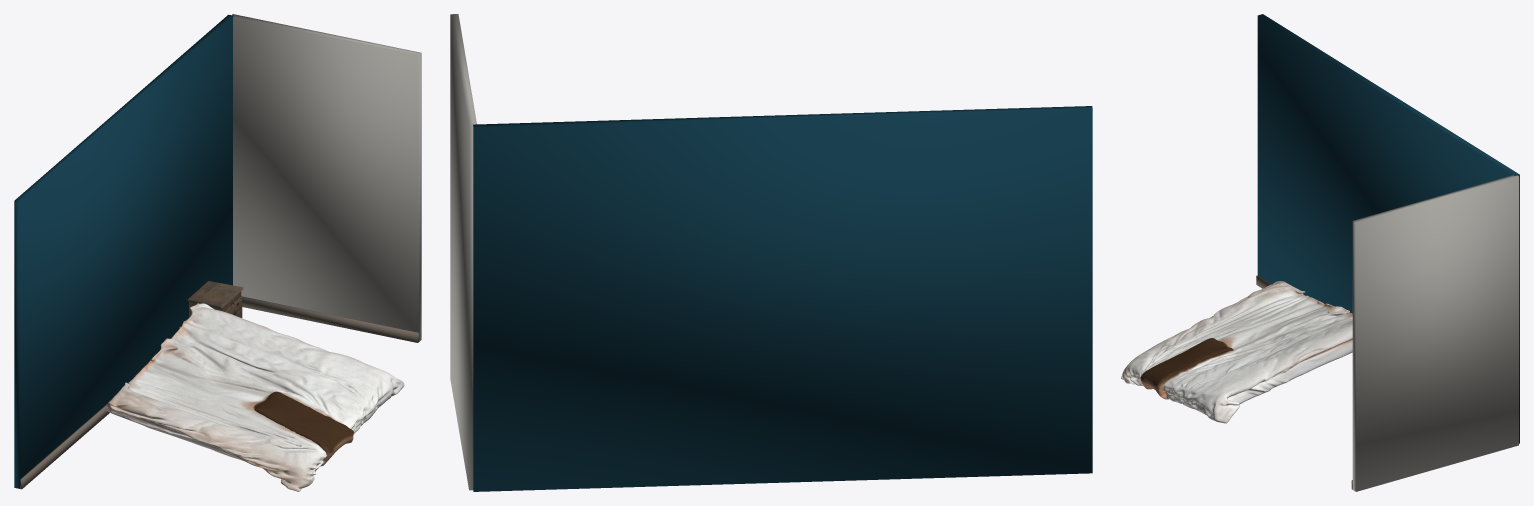
3 views of the same model, side by side, from view 1: azimuth 30°, elevation 25°; view 2: azimuth 150°, elevation 25°; view 3: azimuth 270°, elevation 25° (orthographic). The views are drawn at different scales.
Parts seen in each view (by area): view 1: Wall, Wall.001, bed, Baseboard.001, nightstand_right, Baseboard; view 2: Wall, Wall.001; view 3: Wall.001, Wall, bed.
Boxes of the visible parts, x1=… form: Wall: x1=14, y1=14, x2=233, y2=488; Wall.001: x1=232, y1=14, x2=421, y2=341; bed: x1=106, y1=303, x2=404, y2=491; Baseboard.001: x1=242, y1=296, x2=418, y2=342; nightstand_right: x1=187, y1=281, x2=243, y2=317; Baseboard: x1=20, y1=403, x2=109, y2=489; Wall: x1=473, y1=106, x2=1092, y2=491; Wall.001: x1=450, y1=14, x2=476, y2=490; Wall.001: x1=1352, y1=175, x2=1518, y2=491; Wall: x1=1257, y1=14, x2=1519, y2=443; bed: x1=1121, y1=281, x2=1352, y2=423.
Size of what is drawn, in the model's own units: 4 by 2.42 by 3.23.
6 materials, 2 textured.
